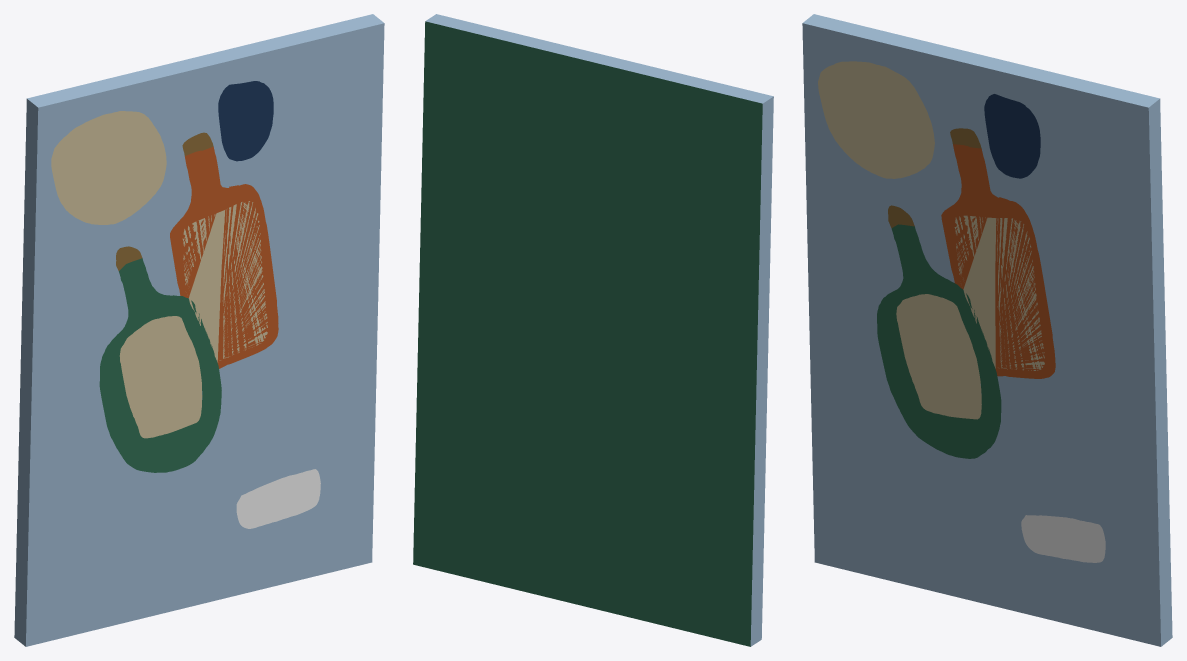
File: Cuadro1.obj
The picture shows the model from 3 angles, left to right: view 1: azimuth 30°, elevation 25°; view 2: azimuth 150°, elevation 25°; view 3: azimuth 330°, elevation 25°; orthographic projection. The views are drawn at different scales.
Visible parts, largest first — view 1: Mesh20Model; view 2: Mesh20Model; view 3: Mesh20Model.
Part boxes in pixels (x1,y1,x2,y2): Mesh20Model: (14,14,384,646); Mesh20Model: (413,14,773,646); Mesh20Model: (802,14,1172,646).
Bounding box in the file's own units: 1.05 × 1.59 × 0.125.
Materials: 7 (7 with a texture image).
